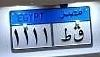1: (32, 28, 39, 46), (23, 28, 30, 45), (14, 29, 20, 47), (43, 26, 48, 44)
Taa: (61, 28, 72, 43)
qaaf: (72, 25, 84, 43)
